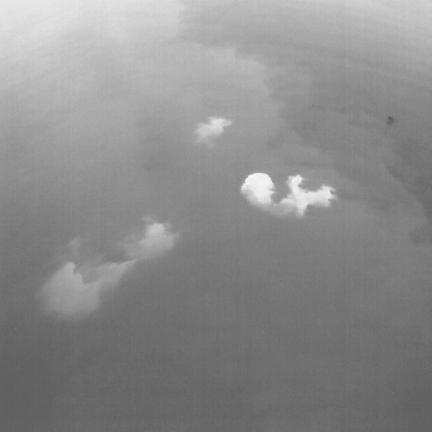flukeprints: (41, 262, 107, 317), (279, 175, 335, 215), (124, 223, 179, 260), (195, 117, 232, 147), (241, 174, 273, 206)
